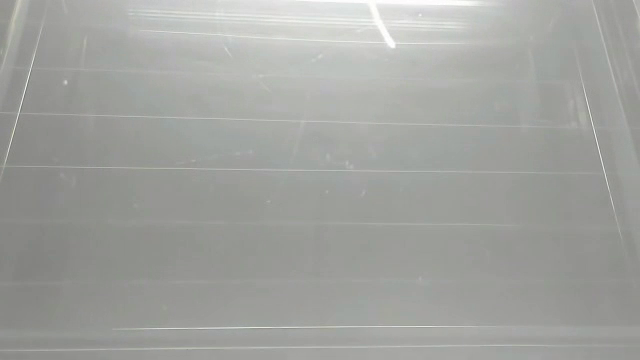alpha: (367, 1, 400, 52)
